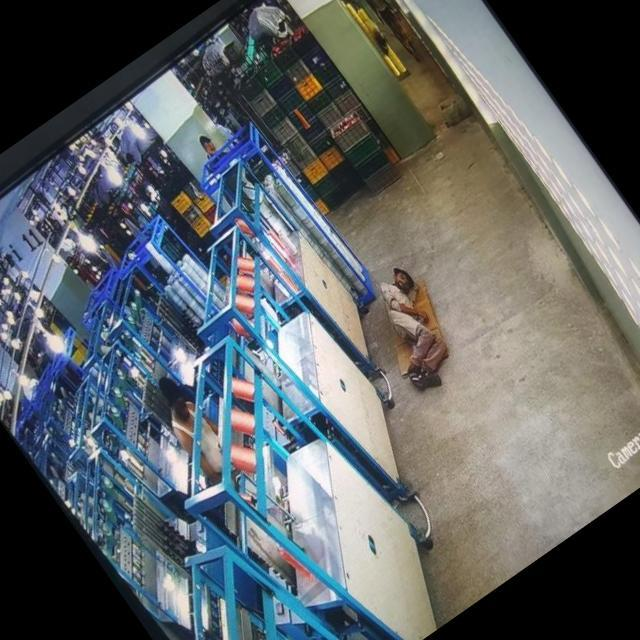person: (350, 256, 472, 396), (142, 366, 232, 474), (195, 129, 222, 159)
